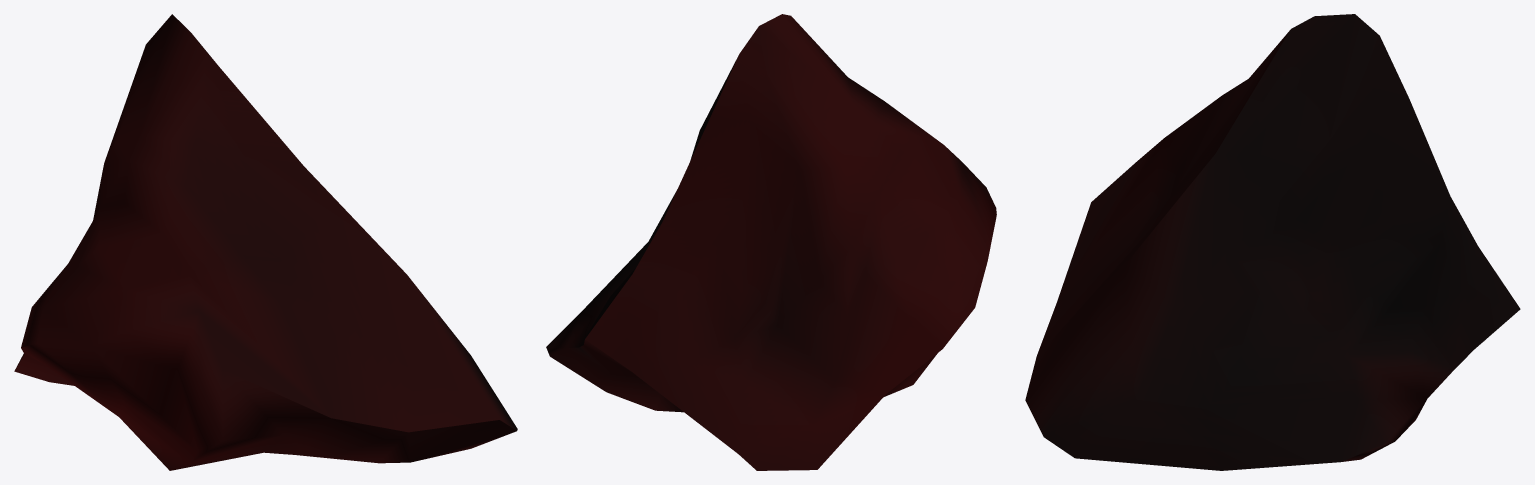
File: geology-pebbles-obsidian_v5.fbx
3 views of the same model, side by side, from view 1: azimuth 30°, elevation 25°; view 2: azimuth 150°, elevation 25°; view 3: azimuth 270°, elevation 25° (orthographic). The views are drawn at different scales.
Parts seen in each view (by area): view 1: Obsidian_v5; view 2: Obsidian_v5; view 3: Obsidian_v5.
Boxes of the visible parts, x1,y1,x2,y2 form: Obsidian_v5: (14,14,517,470); Obsidian_v5: (546,14,996,470); Obsidian_v5: (1025,14,1520,470).
Bounding box in the file's own units: 7.31 × 7.07 × 8.45.
